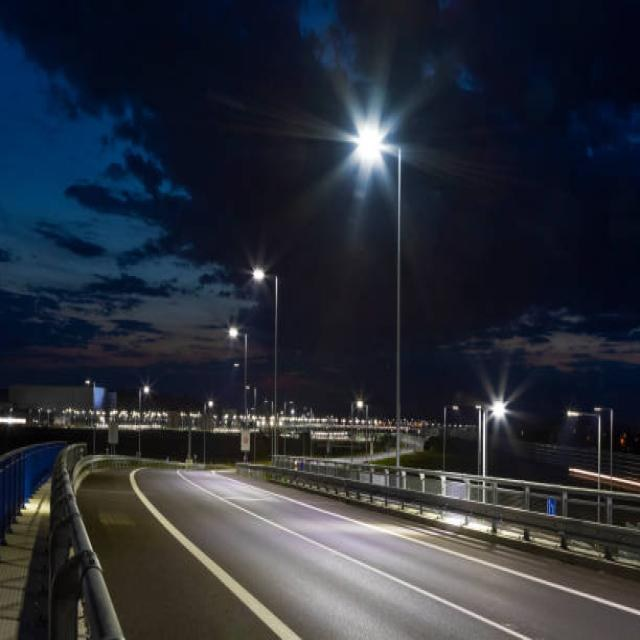acesa: (340, 106, 401, 176), (466, 366, 527, 436), (234, 245, 282, 296), (136, 374, 157, 403)
